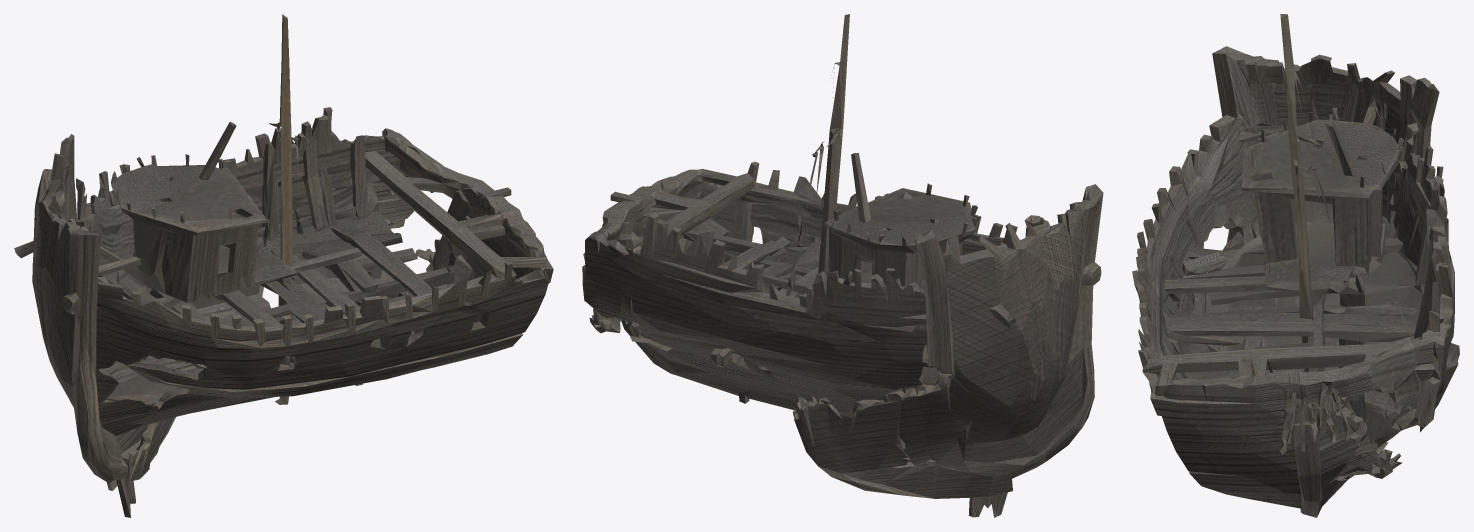
Rendered from shipwreck.glb.
3 renders of one model, left to right at view 1: azimuth 30°, elevation 25°; view 2: azimuth 150°, elevation 25°; view 3: azimuth 270°, elevation 25°, orthographic. The views are drawn at different scales.
Bounding box in the file's own units: 1.9 × 1.8 × 1.08.
1 material, 1 textured.
